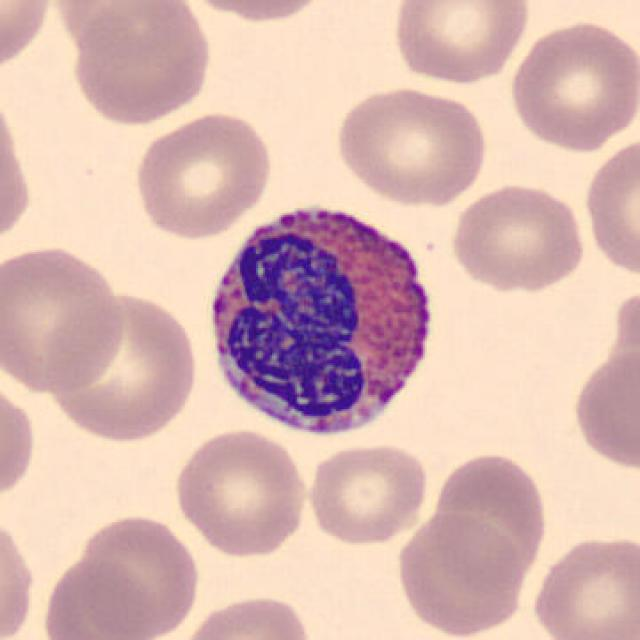Eosinophil: (196, 187, 448, 449)
RBC: (43, 288, 201, 444), (64, 0, 217, 129), (0, 240, 128, 393), (130, 108, 276, 242), (331, 83, 489, 206), (169, 425, 311, 559), (505, 16, 638, 153), (391, 508, 528, 638), (430, 448, 551, 590), (74, 510, 204, 638), (446, 180, 588, 294), (304, 439, 430, 547), (387, 0, 533, 86), (528, 530, 638, 640), (37, 552, 160, 640), (49, 0, 202, 65), (579, 132, 640, 282), (569, 346, 638, 474), (176, 590, 314, 640), (0, 86, 36, 260), (0, 374, 39, 509), (0, 506, 39, 640), (0, 0, 55, 76), (178, 0, 336, 26)
